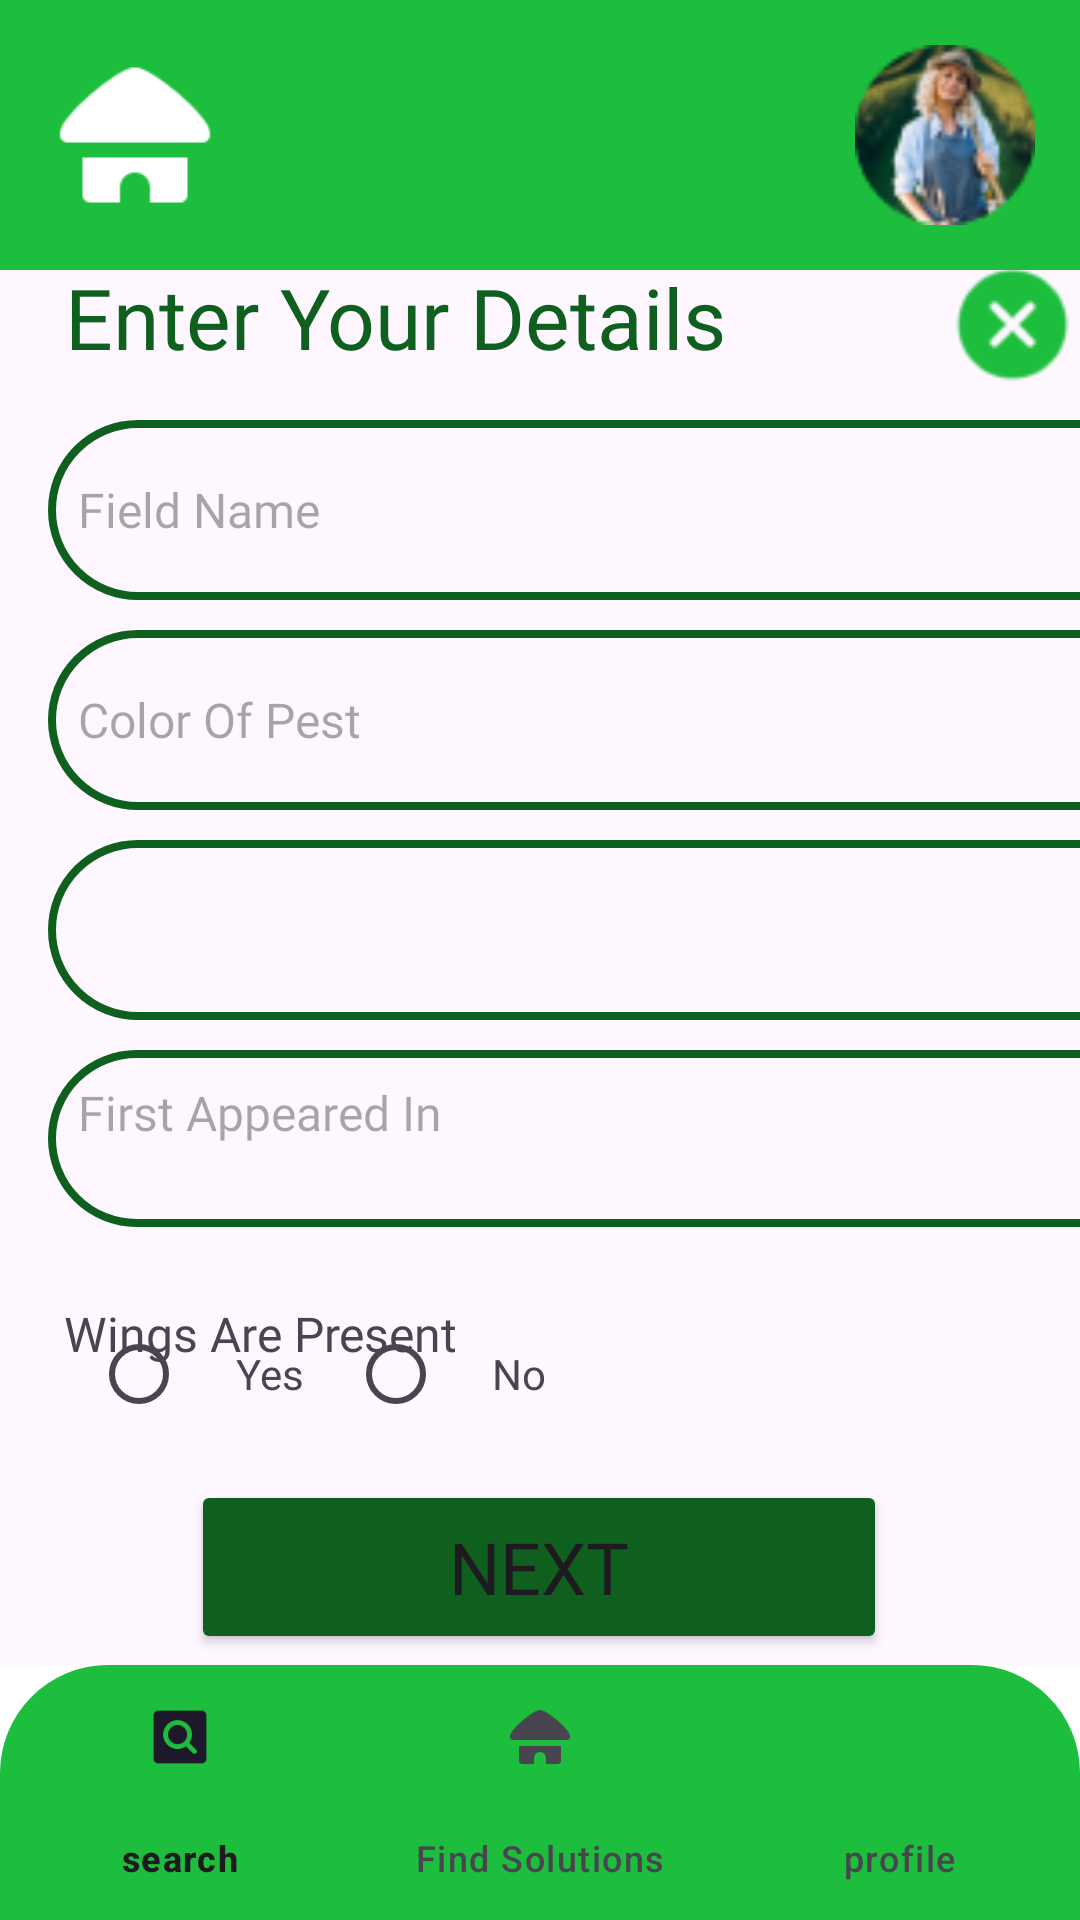

Named icons in this screenshot (1080px x 1920px) and their bounding boxes, (x1, y1, x2, y2):
macos close: (945, 254, 1080, 381)
